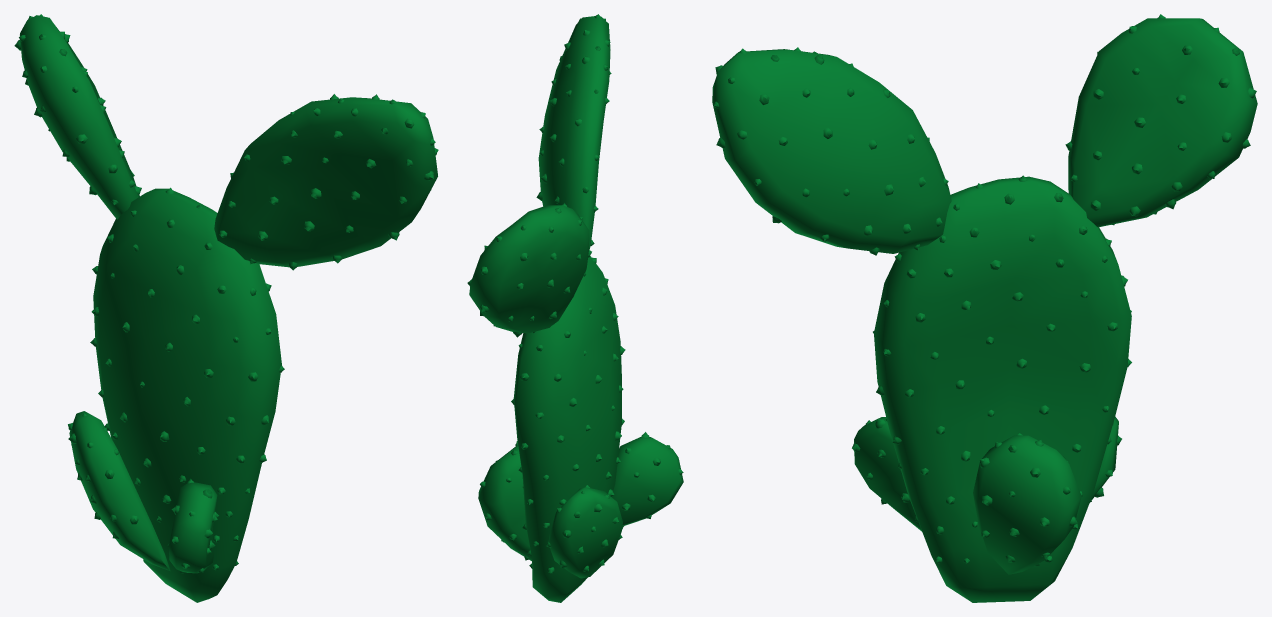
The picture shows the model from 3 angles, left to right: view 1: azimuth 30°, elevation 25°; view 2: azimuth 150°, elevation 25°; view 3: azimuth 270°, elevation 25°; orthographic projection. The views are drawn at different scales.
Parts seen in each view (by area): view 1: SM_Cactus_Bunny_LOD0; view 2: SM_Cactus_Bunny_LOD0; view 3: SM_Cactus_Bunny_LOD0.
Part boxes in pixels (box(x1,y1,x2,y2)): SM_Cactus_Bunny_LOD0: box(14, 14, 438, 602); SM_Cactus_Bunny_LOD0: box(467, 14, 683, 602); SM_Cactus_Bunny_LOD0: box(712, 14, 1257, 602).
Bounding box in the file's own units: 0.6112 × 1.53 × 1.27.
